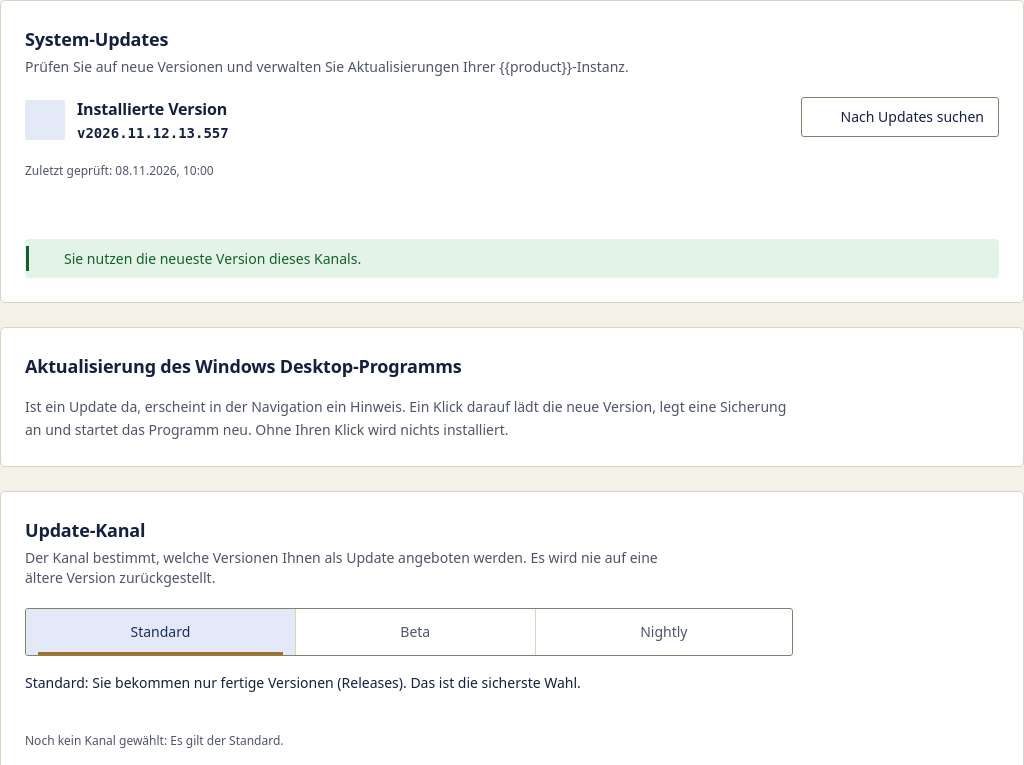
it: update page: channel › saves the Nightly channel and shows its explanation
Click the radio button labelled "Nightly" at (663, 632), box [535,608,792,654]
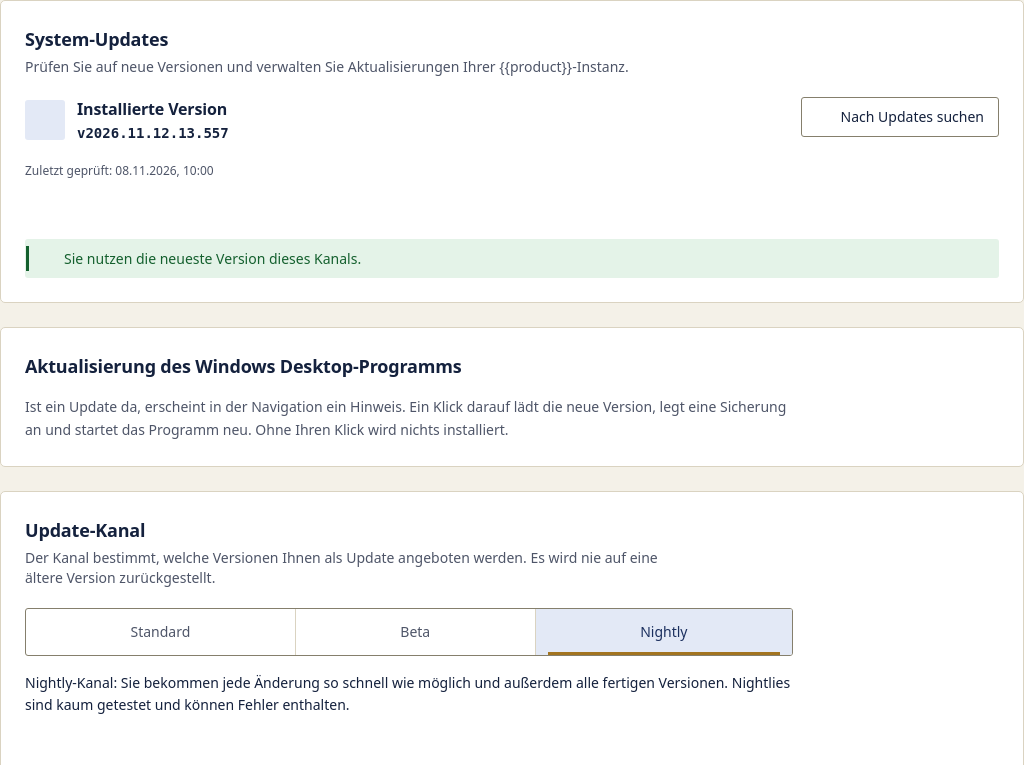
Expected: the radio button labelled "Nightly" is checked, [535,608,792,654]
Expected: the text with test id "update-channel-text" shows "jede Änderung so schnell wie möglich und außerdem alle fertigen Versionen", [25,672,790,714]
Expected: the text "Noch kein Kanal gewählt: Es gilt der Standard." is gone
